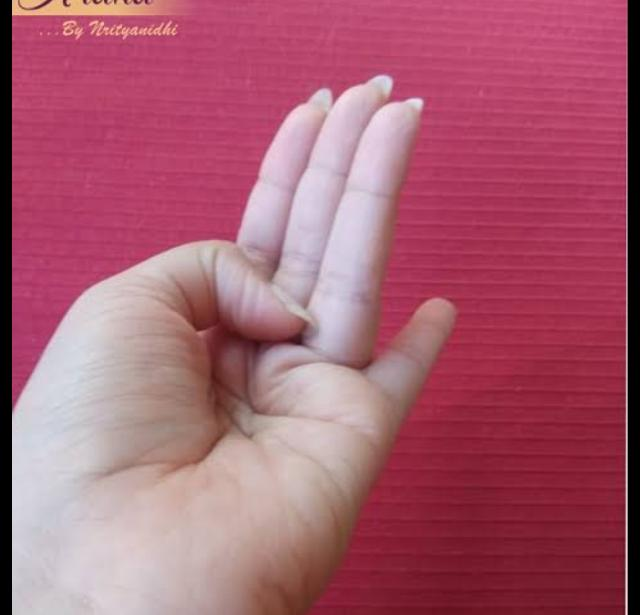chatur: (33, 54, 508, 615)
